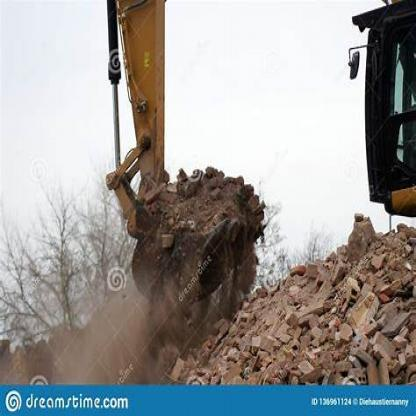excavator: (85, 0, 276, 312)
